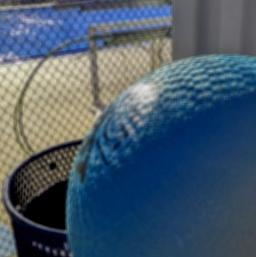algae: (71, 54, 256, 257)
